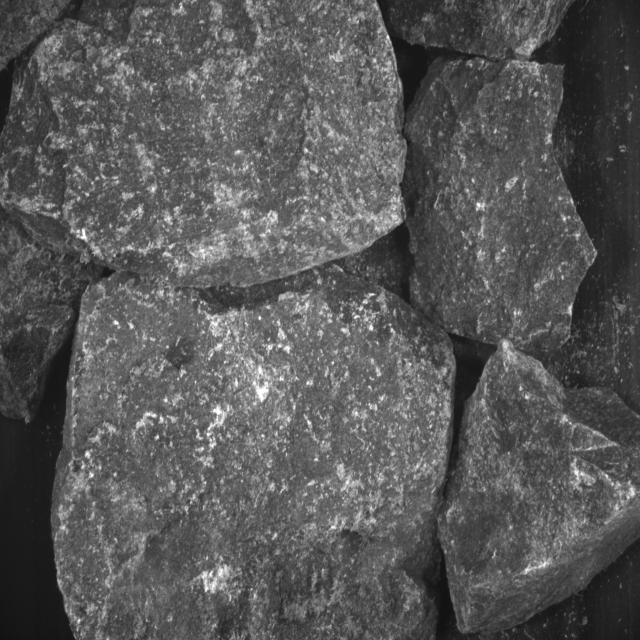Stones: (52, 268, 456, 639), (1, 3, 406, 287), (440, 341, 640, 634), (404, 60, 597, 351), (1, 208, 102, 423), (381, 1, 575, 61), (1, 1, 71, 72)
